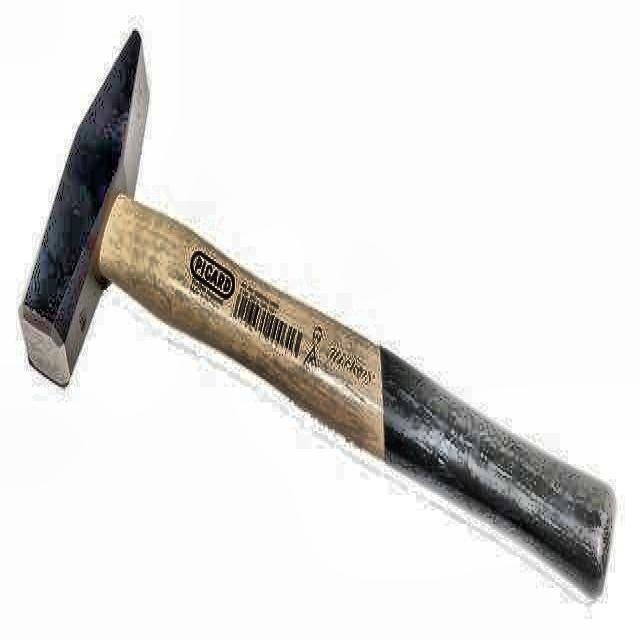hammer: (18, 29, 618, 596)
